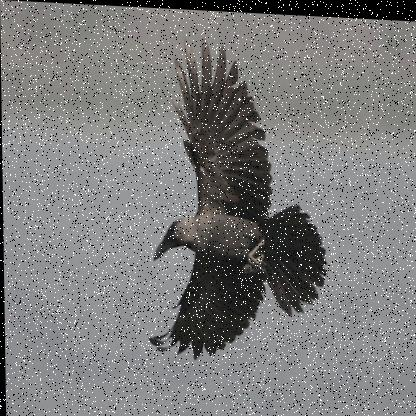Burung: (144, 33, 327, 363)
